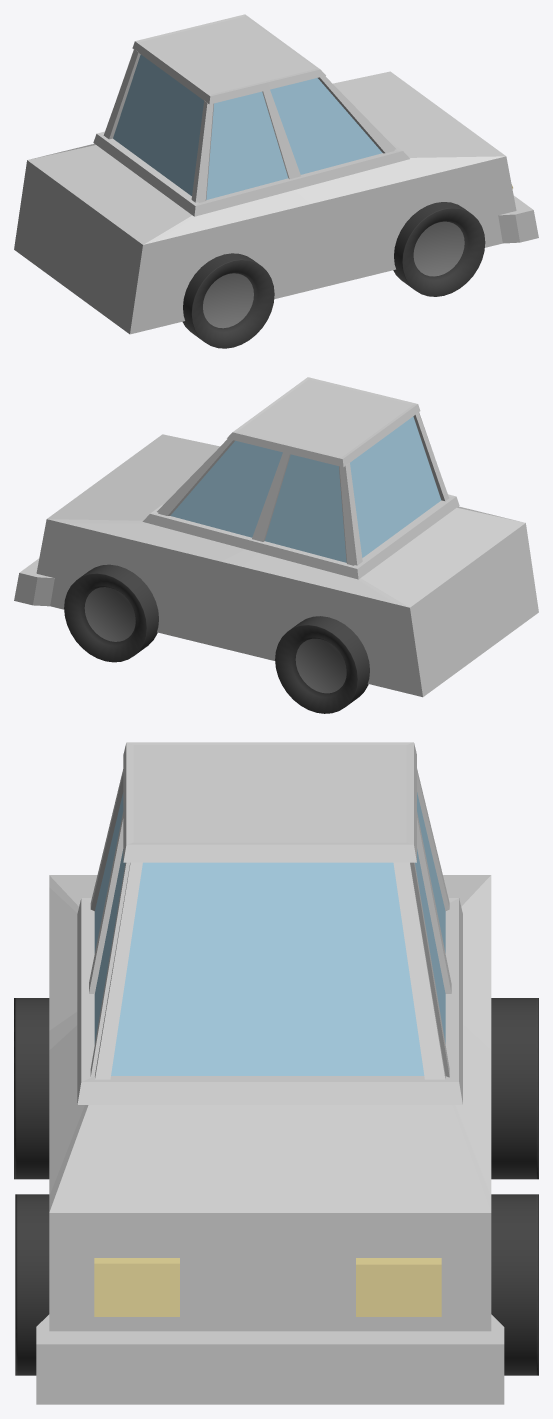
Rendered from car white.fbx.
The picture shows the model from 3 angles, top to bottom: view 1: azimuth 30°, elevation 25°; view 2: azimuth 150°, elevation 25°; view 3: azimuth 270°, elevation 25°; orthographic projection. The views are drawn at different scales.
Visible parts, largest first — view 1: Cube.030, Cylinder.030, Cylinder.031; view 2: Cube.030, Cylinder.028, Cylinder.029; view 3: Cube.030, Cylinder.029, Cylinder.028, Cylinder.030, Cylinder.031.
Part boxes in pixels (x1,y1,x2,y2): Cube.030: [14, 14, 538, 334]; Cylinder.030: [182, 253, 274, 348]; Cylinder.031: [393, 202, 485, 296]; Cube.030: [14, 377, 538, 697]; Cylinder.028: [64, 564, 158, 662]; Cylinder.029: [275, 616, 369, 713]; Cube.030: [36, 742, 504, 1404]; Cylinder.029: [491, 998, 538, 1179]; Cylinder.028: [491, 1194, 538, 1375]; Cylinder.030: [14, 998, 49, 1179]; Cylinder.031: [15, 1194, 49, 1375].
Bounding box in the file's own units: 9.83 × 5.28 × 5.78.
